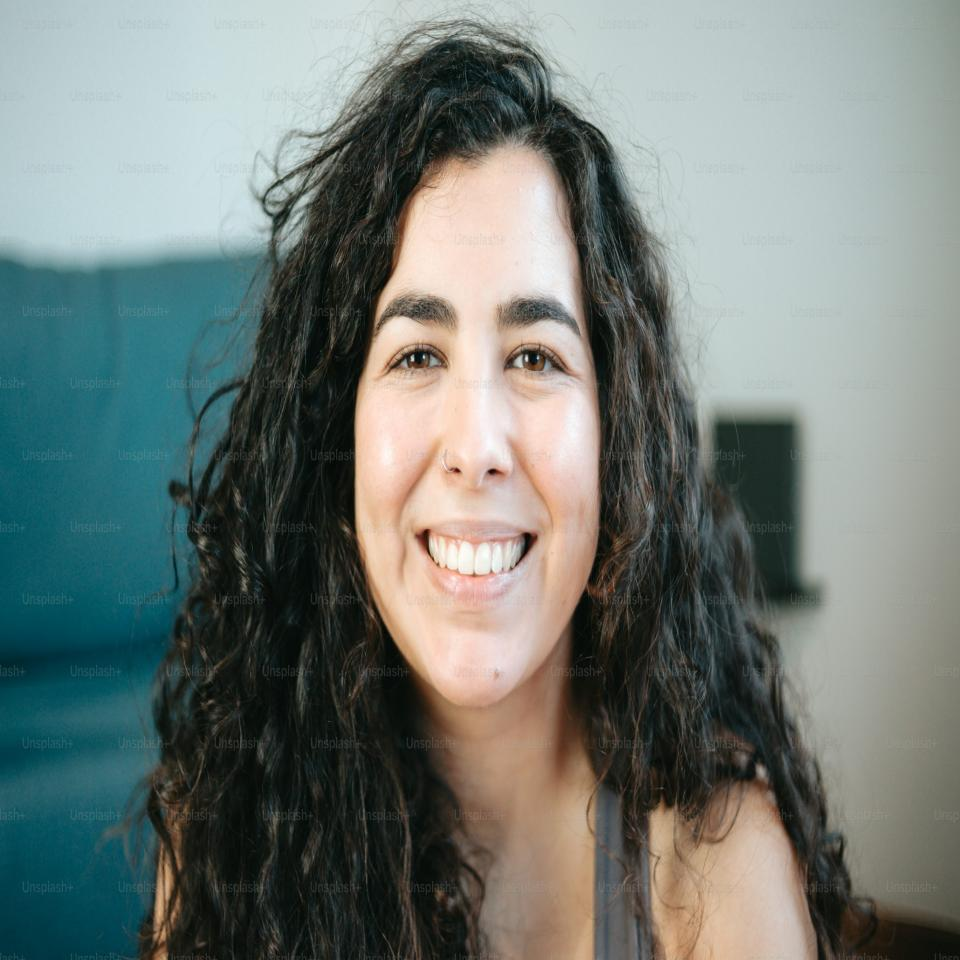Happiness: (356, 153, 604, 712)
